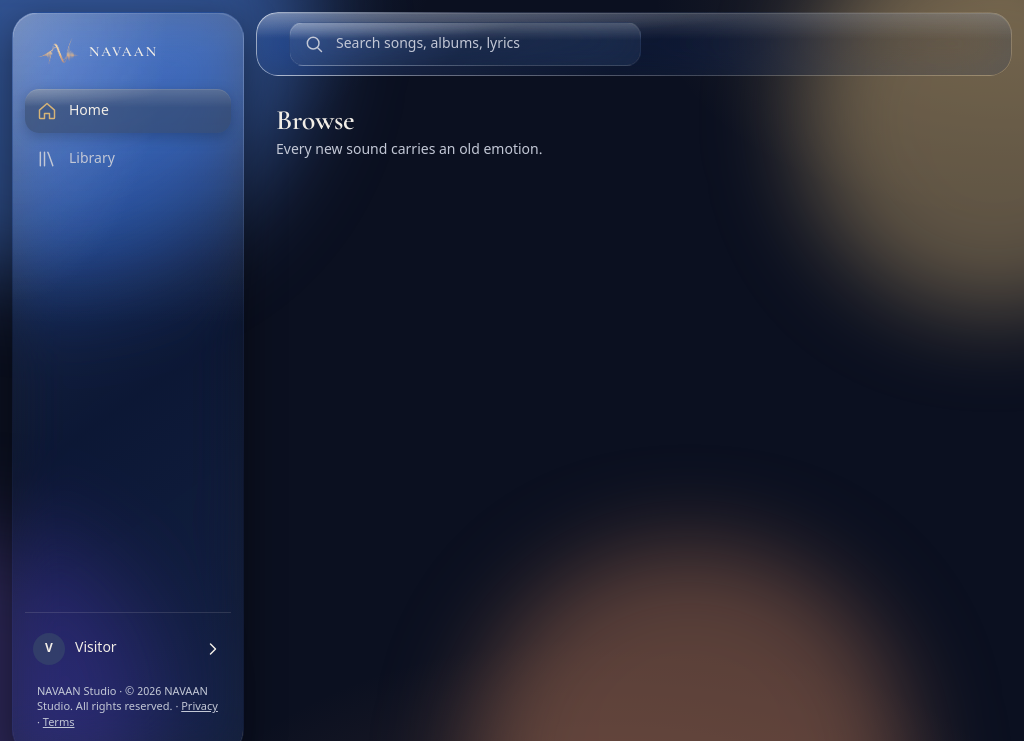
Test case: the free public site (not signed in) › opens on Browse with Home and Library in the navigation, and the menu offers Create account, not Studio, Account or Sign out
This screenshot has width=1024, height=741.
Expected: the heading "Browse" is shown, [276,103,354,137]
Expected: the links read "Home", "Library", in this order, [25,89,231,133]; [37,149,115,169]
Step 1. Click the button with aria-label "Account menu, Visitor" → (128, 649), box [25,625,231,673]
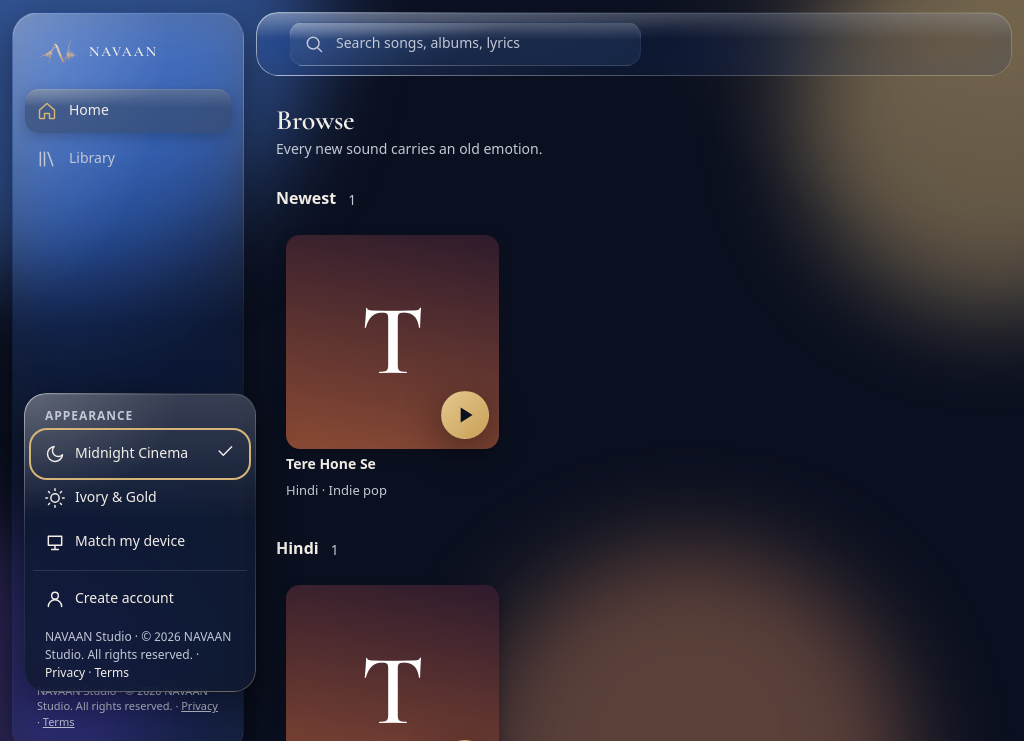
Expected: the heading "Appearance" is shown, [45,409,133,425]
